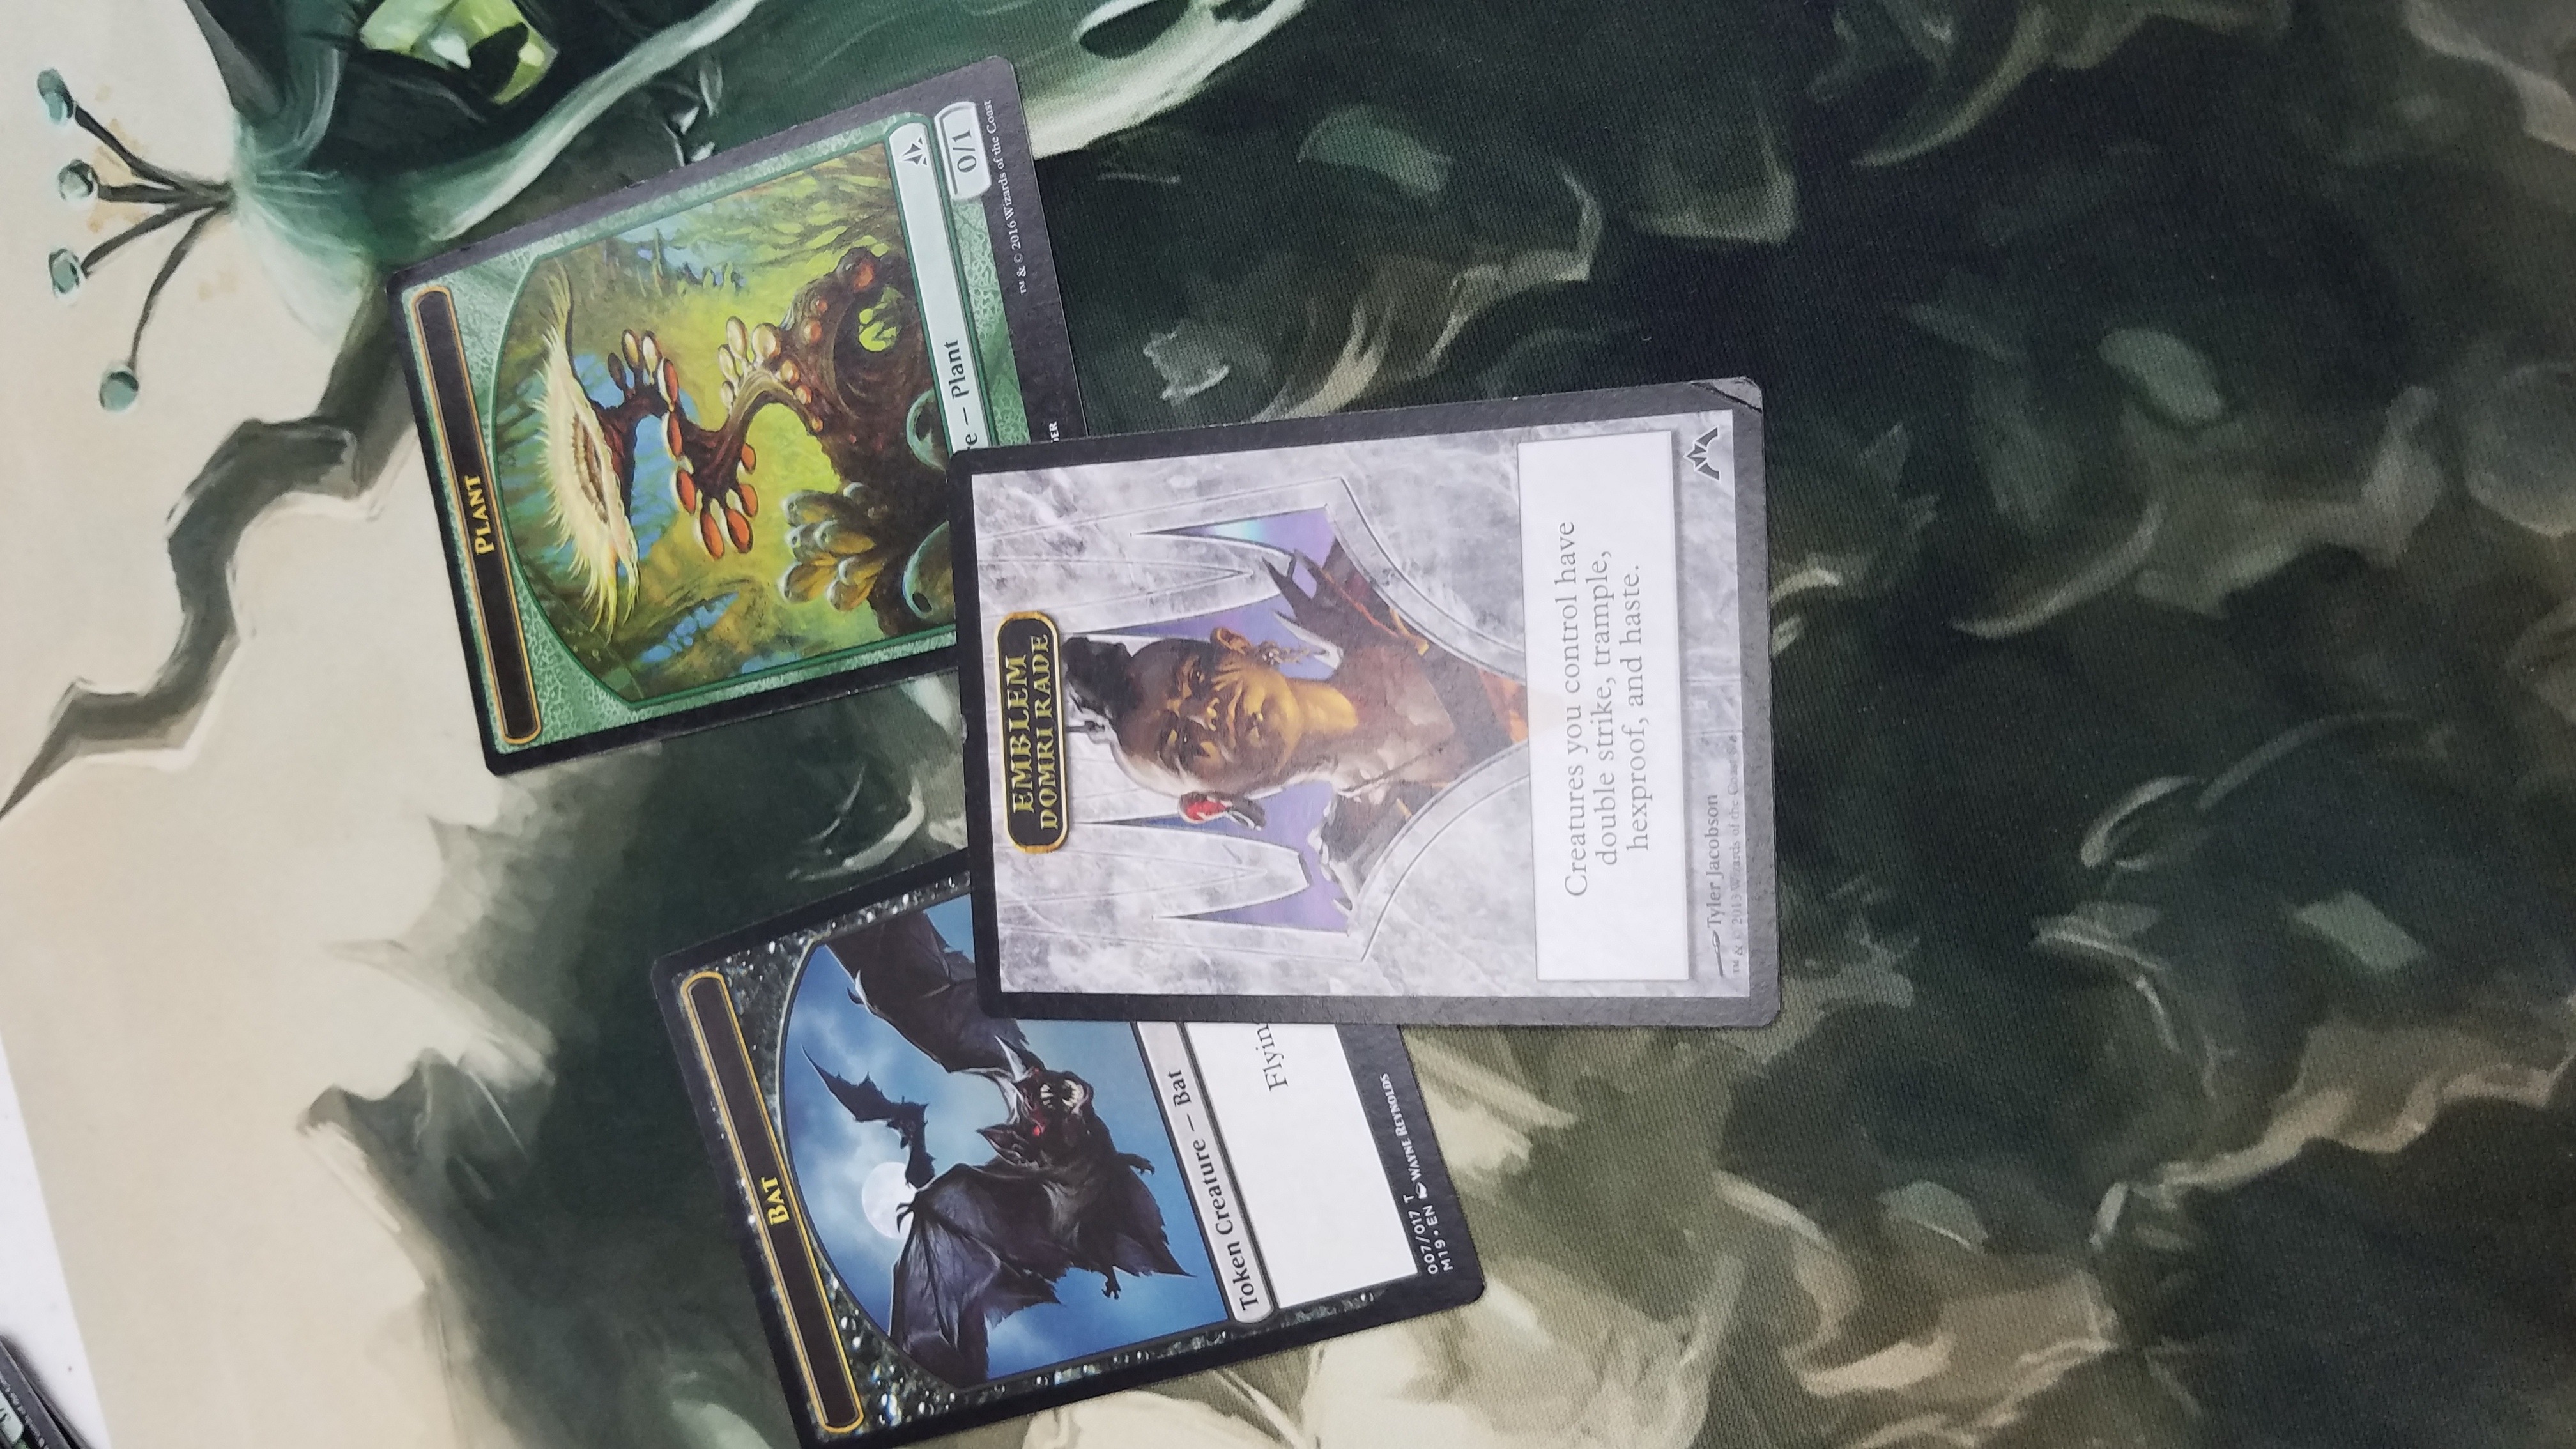Card: (939, 363, 1798, 1049), (386, 50, 1131, 786), (644, 816, 1509, 1449)
